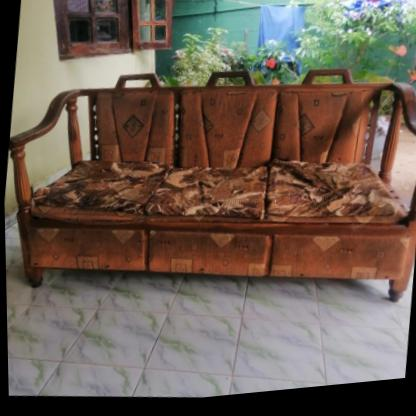Ceramic floor: (4, 212, 411, 401)
Sofa: (1, 35, 416, 339)
